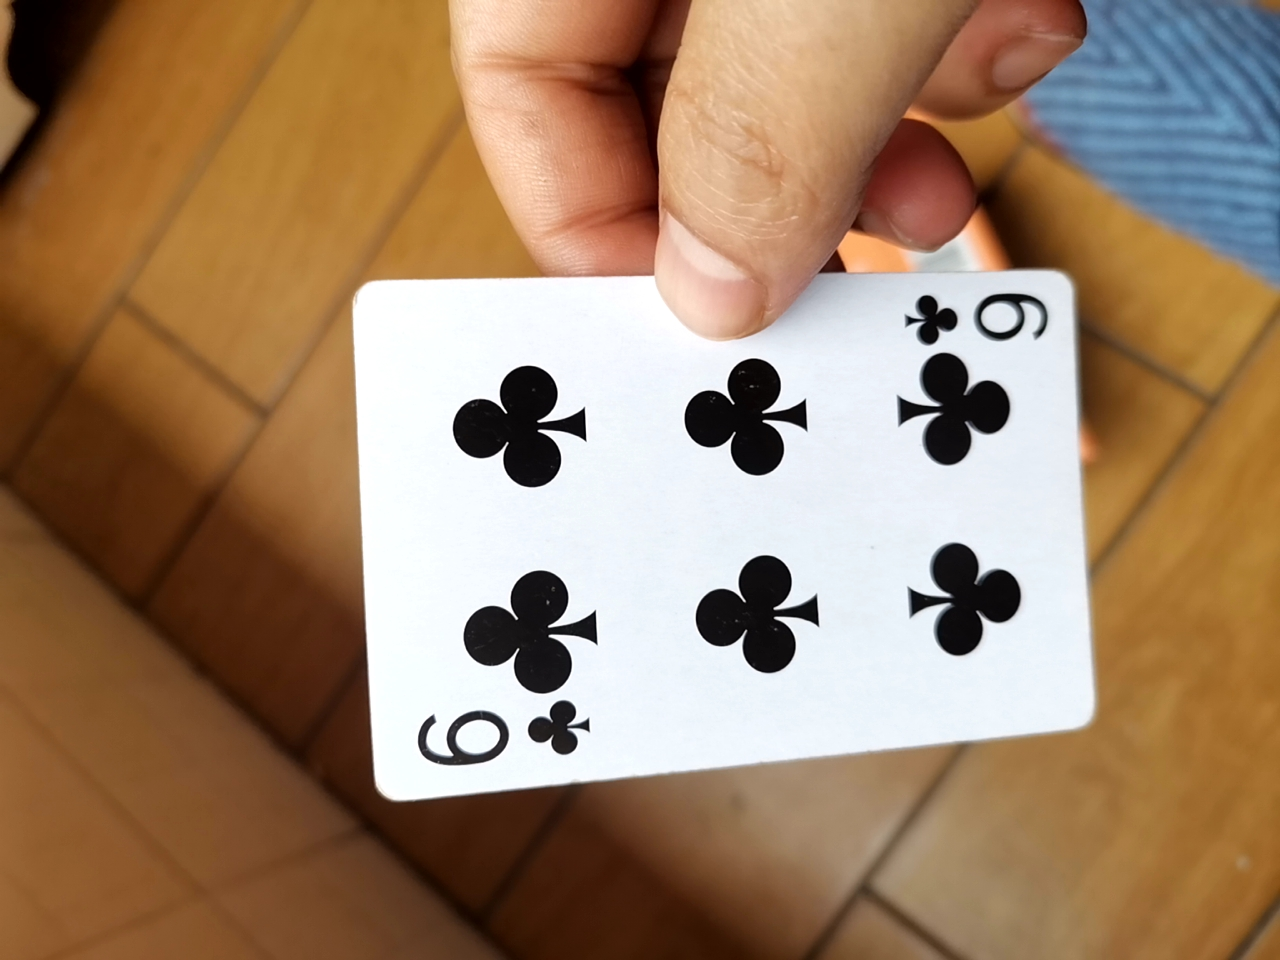mh 6: (335, 253, 1100, 814)
